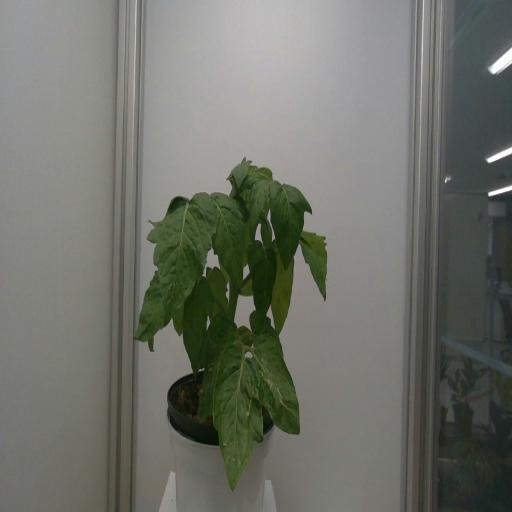Tomato-Leaves-Cupboard-: (148, 186, 210, 327), (210, 340, 262, 494), (243, 316, 305, 439), (198, 181, 252, 296), (262, 172, 309, 271), (129, 269, 178, 353), (226, 148, 270, 220), (183, 279, 213, 378), (270, 234, 297, 339), (298, 226, 332, 303), (245, 243, 277, 322), (206, 256, 231, 326)
